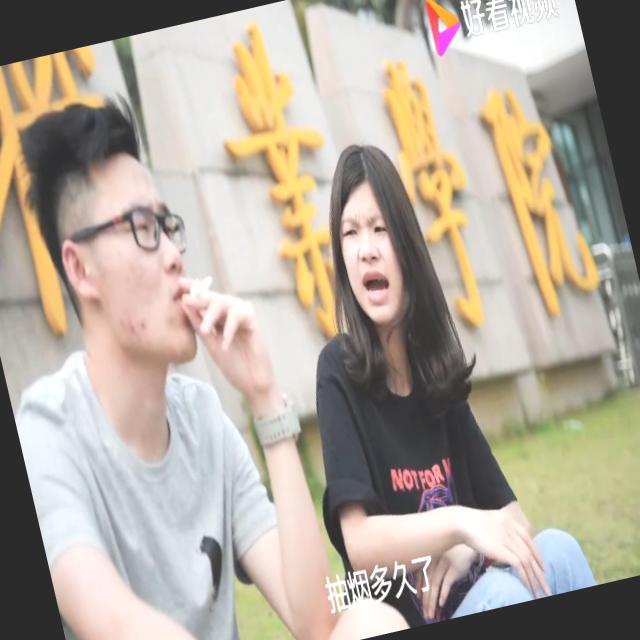smoke: (179, 265, 222, 308)
